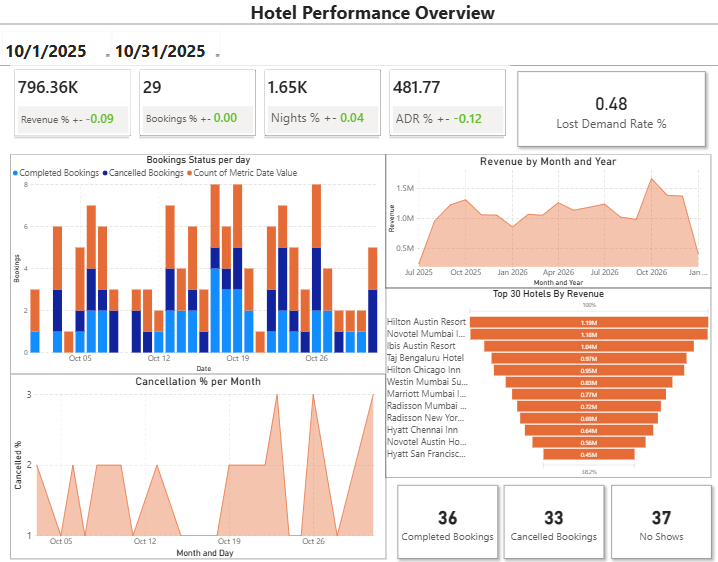

This screenshot's page, from the dashboard's own definition file:
{"tool":"powerbi","page":{"name":"Page 1","canvas":[3000,3000],"ordinal":0},"visuals":[{"type":"textbox","box":[0,0,3000,100],"z":0},{"type":"slicer","fields":{"Values":["VW_DATE_DIM.DATE_DAY"]},"box":[0,100,3000,166.7],"z":1000},{"type":"cardVisual","fields":{"Data":["VW_KPI_STAY_DAILY.Total Revenue"]},"box":[43.3,266.7,500,300],"z":2000},{"type":"cardVisual","fields":{"Data":["VW_KPI_STAY_DAILY.Total Bookings"]},"box":[546.7,266.7,500,300],"z":3000},{"type":"cardVisual","fields":{"Data":["VW_KPI_STAY_DAILY.Total Nights"]},"box":[1046.7,266.7,500,300],"z":4000},{"type":"cardVisual","fields":{"Data":["VW_KPI_STAY_DAILY.ADR"]},"box":[1543.3,266.7,500,300],"z":5000},{"type":"funnel","title":"Top 30 Hotels By Revenue","fields":{"Category":["VW_KPI_STAY_DAILY_HOTEL.HOTEL_NAME"],"Y":["Sum(VW_KPI_STAY_DAILY_HOTEL.NET_REVENUE)"]},"box":[1546.7,1156.7,1303.3,760],"z":10000},{"type":"columnChart","title":"Bookings Status per day","fields":{"Category":["VW_KPI_BOOKING_STATUS_DAILY.METRIC_DATE"],"Y":["VW_KPI_BOOKING_STATUS_DAILY.Completed Bookings","VW_KPI_BOOKING_STATUS_DAILY.Cancelled Bookings","CountNonNull(VW_KPI_BOOKING_STATUS_DAILY.Metric Date Value)"]},"box":[43.3,620,1503.3,880],"z":11001},{"type":"lineChart","title":"Revenue by Month and Year","fields":{"Category":["VW_KPI_STAY_DAILY_HOTEL.METRIC_DATE.Variation.Date Hierarchy.Year","VW_KPI_STAY_DAILY_HOTEL.METRIC_DATE.Variation.Date Hierarchy.Month"],"Y":["Sum(VW_KPI_STAY_DAILY_HOTEL.TOTAL_REVENUE_ACTUAL)"]},"box":[1546.7,620,1303.3,536.7],"z":11002},{"type":"lineChart","title":"Cancellation % per Month","fields":{"Category":["VW_KPI_BOOKING_STATUS_DAILY.Metric Date Value.Variation.Date Hierarchy.Year","VW_KPI_BOOKING_STATUS_DAILY.Metric Date Value.Variation.Date Hierarchy.Month","VW_KPI_BOOKING_STATUS_DAILY.Metric Date Value.Variation.Date Hierarchy.Day"],"Y":["VW_KPI_BOOKING_STATUS_DAILY.Cancelled Bookings"]},"box":[43.3,1500,1503.3,740],"z":11003},{"type":"card","fields":{"Values":["VW_KPI_BOOKING_STATUS_DAILY.Completed Bookings"]},"box":[1593.3,1946.7,400,293.3],"z":11004},{"type":"card","fields":{"Values":["VW_KPI_BOOKING_STATUS_DAILY.No Shows"]},"box":[2450,1946.7,400,293.3],"z":11005},{"type":"card","fields":{"Values":["VW_KPI_BOOKING_STATUS_DAILY.Cancelled Bookings"]},"box":[2020,1946.7,400,293.3],"z":11006},{"type":"card","fields":{"Values":["VW_KPI_BOOKING_STATUS_DAILY.Lost Demand Rate %"]},"box":[2073.3,290,750,300],"z":11007}]}

Visuals, with their boxes on the page's 3000x3000 design canvas (x1, y1, x2, y2). These are canvas units, not pixel positions in the 718x562 screenshot, which may show the page scaled, cropped or inside an application window:
textbox: x1=0, y1=0, x2=3000, y2=100
slicer - VW_DATE_DIM.DATE_DAY: x1=0, y1=100, x2=3000, y2=267
cardVisual - VW_KPI_STAY_DAILY.Total Revenue: x1=43, y1=267, x2=543, y2=567
cardVisual - VW_KPI_STAY_DAILY.Total Bookings: x1=547, y1=267, x2=1047, y2=567
cardVisual - VW_KPI_STAY_DAILY.Total Nights: x1=1047, y1=267, x2=1547, y2=567
cardVisual - VW_KPI_STAY_DAILY.ADR: x1=1543, y1=267, x2=2043, y2=567
"Top 30 Hotels By Revenue" funnel: x1=1547, y1=1157, x2=2850, y2=1917
"Bookings Status per day" columnChart: x1=43, y1=620, x2=1547, y2=1500
"Revenue by Month and Year" lineChart: x1=1547, y1=620, x2=2850, y2=1157
"Cancellation % per Month" lineChart: x1=43, y1=1500, x2=1547, y2=2240
card - VW_KPI_BOOKING_STATUS_DAILY.Completed Bookings: x1=1593, y1=1947, x2=1993, y2=2240
card - VW_KPI_BOOKING_STATUS_DAILY.No Shows: x1=2450, y1=1947, x2=2850, y2=2240
card - VW_KPI_BOOKING_STATUS_DAILY.Cancelled Bookings: x1=2020, y1=1947, x2=2420, y2=2240
card - VW_KPI_BOOKING_STATUS_DAILY.Lost Demand Rate %: x1=2073, y1=290, x2=2823, y2=590
